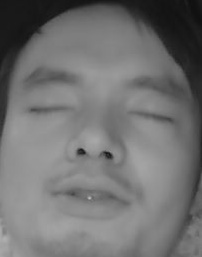blink: (129, 104, 172, 130), (29, 98, 72, 119)
mouth: (50, 165, 137, 220)
